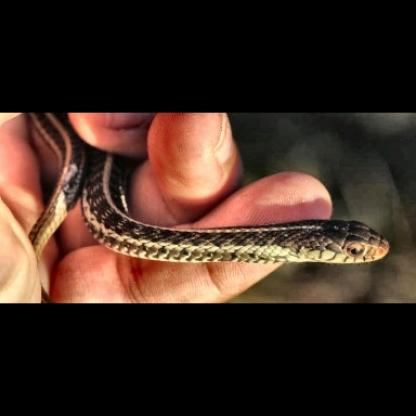Snake: (39, 171, 399, 275)
